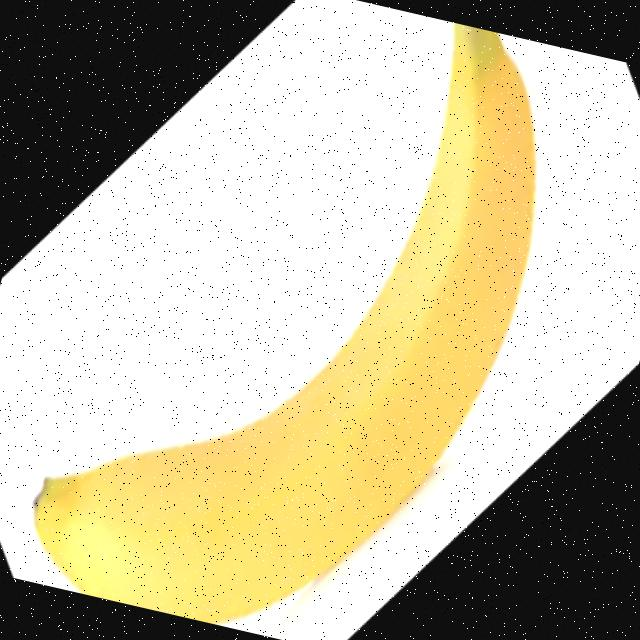banana: (11, 0, 578, 640)
